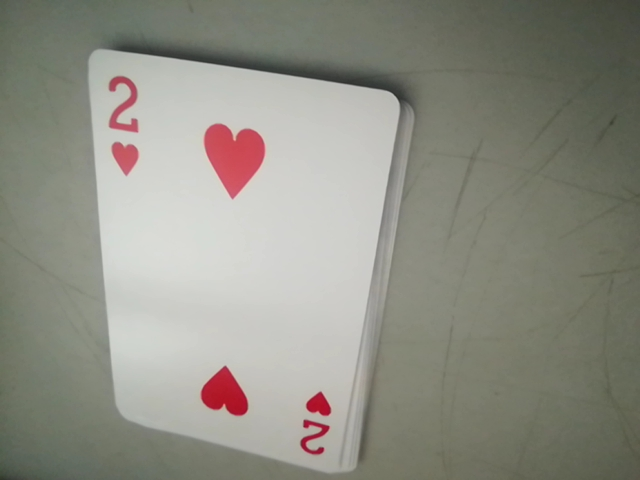hx 2: (92, 56, 152, 184), (293, 391, 344, 463)
